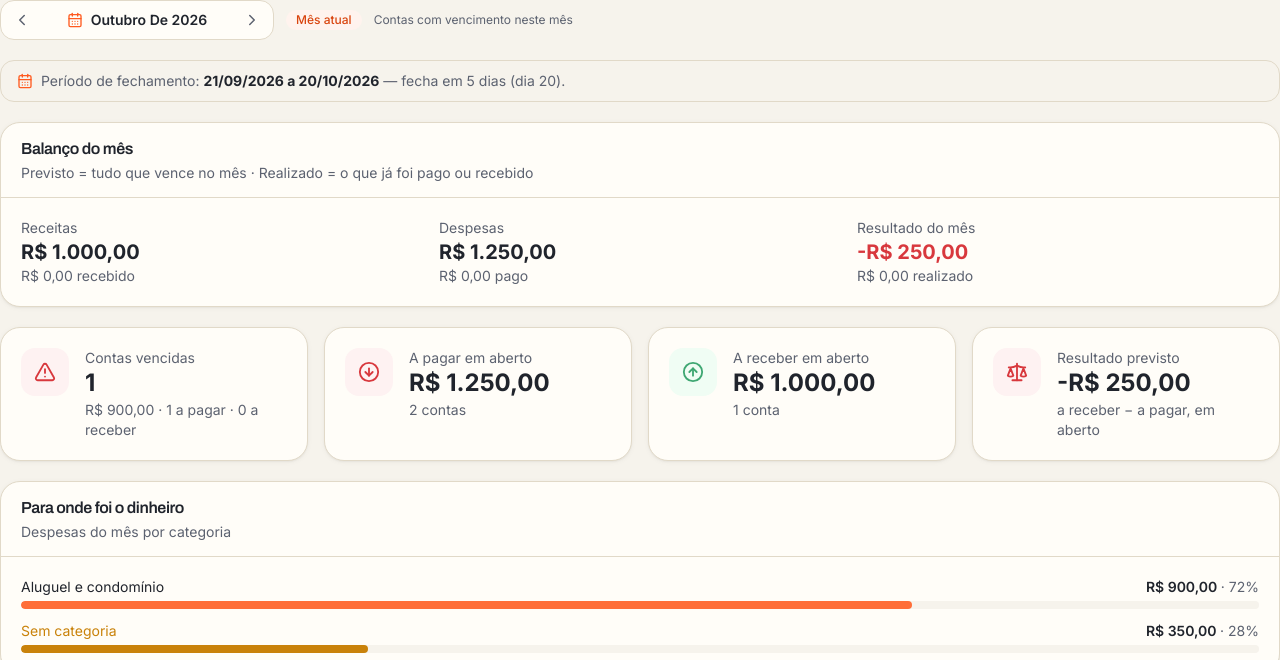
Test: FinanceiroVisaoGeral › shows which month the figures belong to and lets the user browse to the previous one
The image size is (1280, 660).
Expected: the text "outubro de 2026" is shown, [67,11,207,28]
Expected: the text "Mês atual" is shown, [286,10,362,30]
Click the button named "Mês anterior" at (22, 20), box [7,5,37,35]
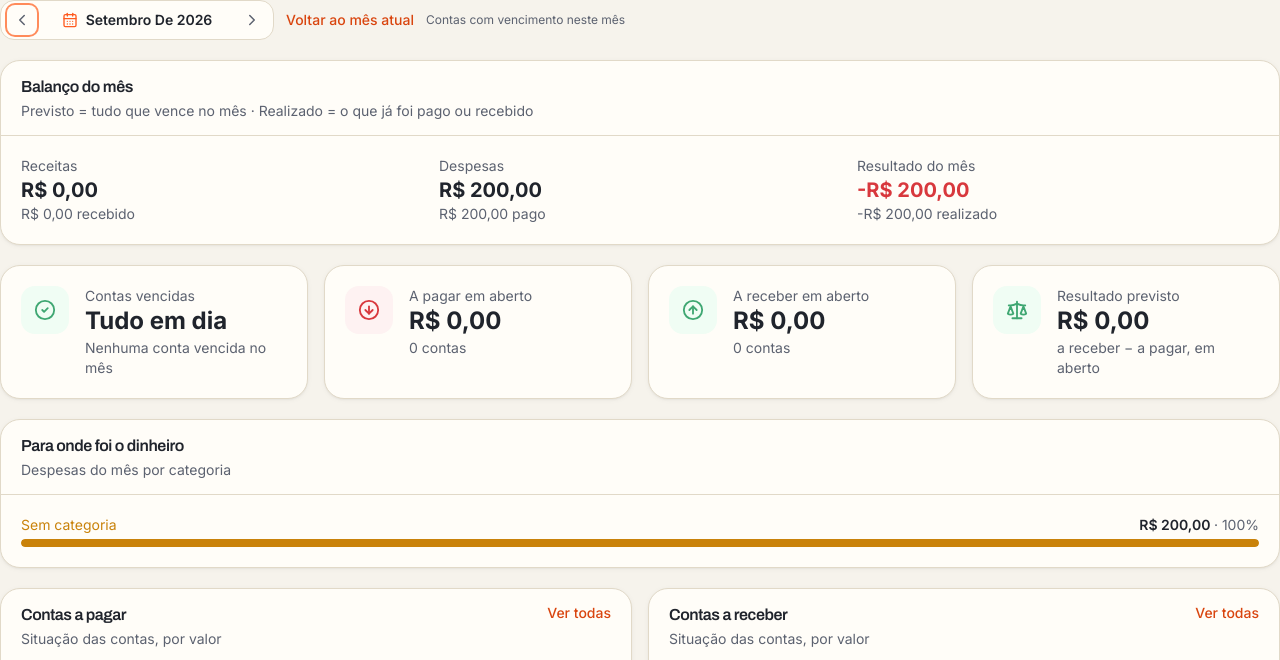
Result: the text "setembro de 2026" is shown at [62,11,212,28]
Result: the text "Aluguel" is gone
Result: the text "Tudo em dia" is shown at [85,306,227,335]
Click the button "Voltar ao mês atual" at (350, 20), box [286,10,414,30]
(page scrolled)
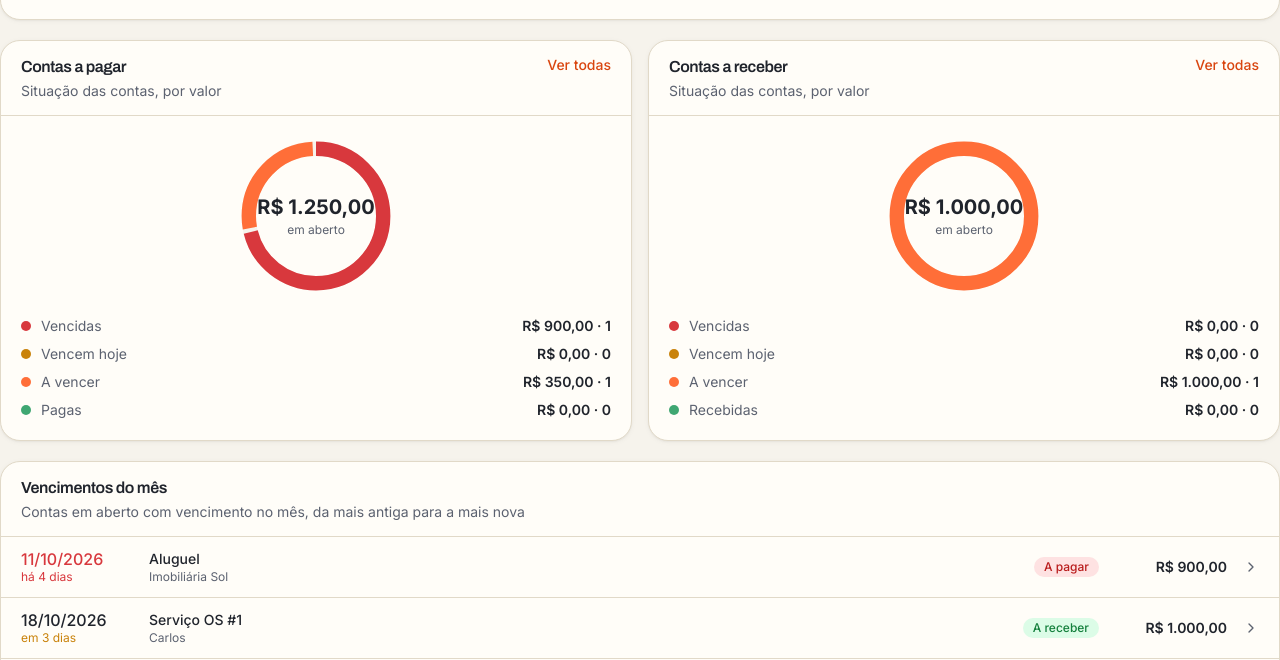
Result: the text "Aluguel" is shown at [149,550,200,567]
